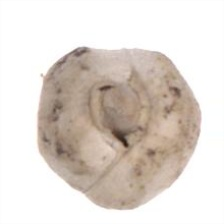L3: (87, 72, 150, 157)
L4: (37, 45, 202, 210)
